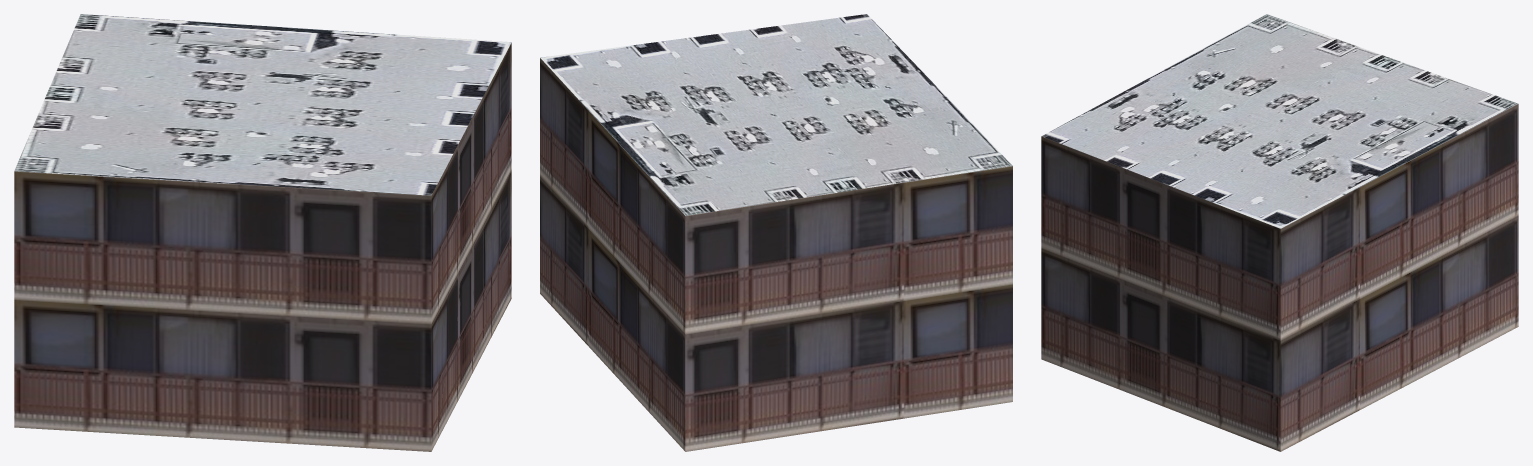
The model's file is ResTex__1169.fbx.
The picture shows the model from 3 angles, left to right: view 1: azimuth 30°, elevation 25°; view 2: azimuth 150°, elevation 25°; view 3: azimuth 270°, elevation 25°; orthographic projection. The views are drawn at different scales.
Visible parts, largest first — view 1: CityEngineMaterial_6_m, CityEngineMaterial_4_m; view 2: CityEngineMaterial_6_m, CityEngineMaterial_4_m; view 3: CityEngineMaterial_6_m, CityEngineMaterial_4_m.
Boxes of the visible parts, box(x1,y1,x2,y2) form: CityEngineMaterial_6_m: box(14, 43, 511, 451); CityEngineMaterial_4_m: box(14, 14, 511, 195); CityEngineMaterial_6_m: box(540, 58, 1012, 451); CityEngineMaterial_4_m: box(540, 14, 1012, 215); CityEngineMaterial_6_m: box(1041, 104, 1518, 451); CityEngineMaterial_4_m: box(1042, 14, 1517, 228).
Size of the model in its own units: 12.39 by 6 by 11.62.
Materials: 2 (2 with a texture image).
